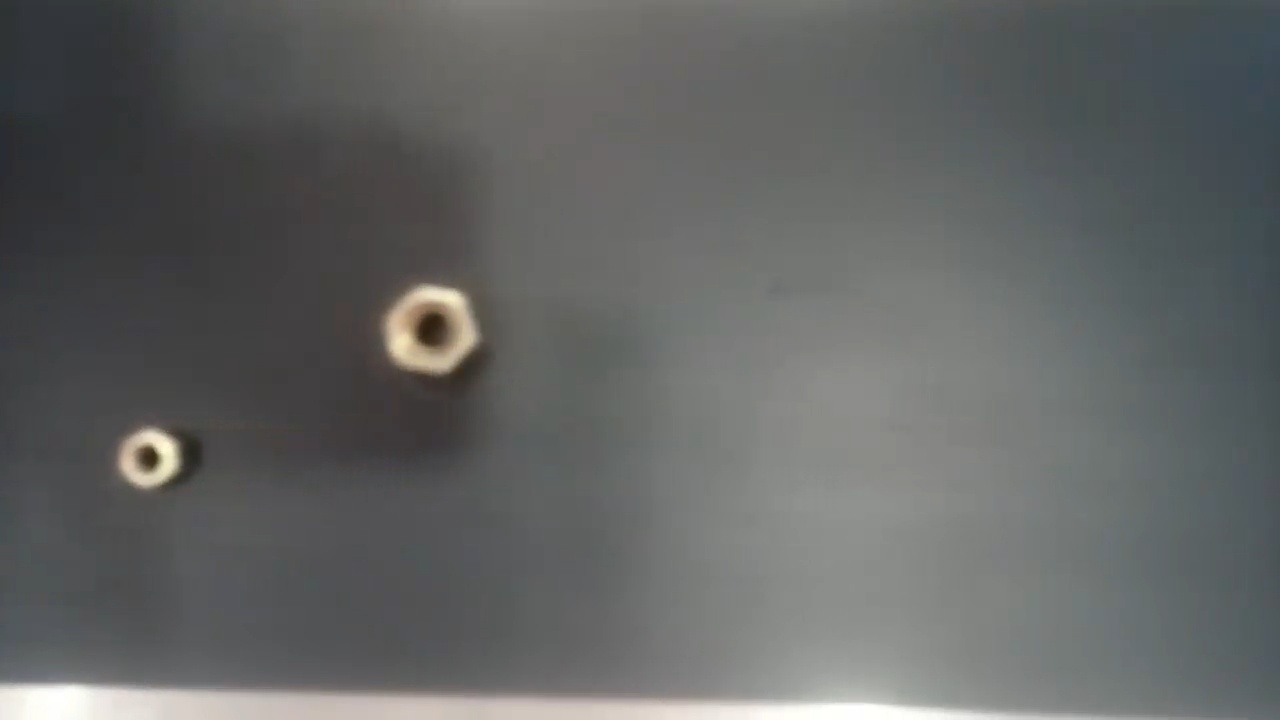Bolt: (379, 279, 483, 384), (114, 421, 186, 494)
